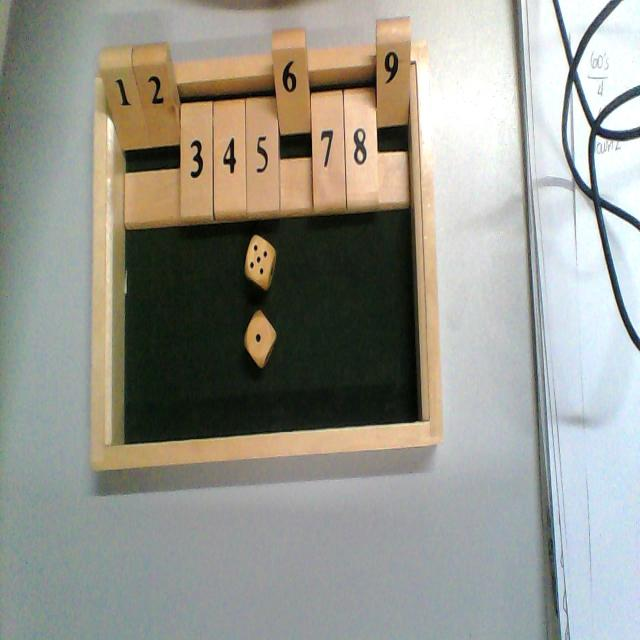1: (239, 304, 283, 374)
5: (242, 230, 278, 294)
C3: (180, 65, 213, 225)
C4: (213, 56, 247, 218)
C5: (247, 53, 280, 216)
C7: (312, 52, 347, 215)
C8: (346, 49, 379, 212)
O1: (99, 48, 150, 223)
O2: (133, 44, 181, 228)
O6: (272, 27, 313, 216)
O9: (377, 20, 414, 209)
